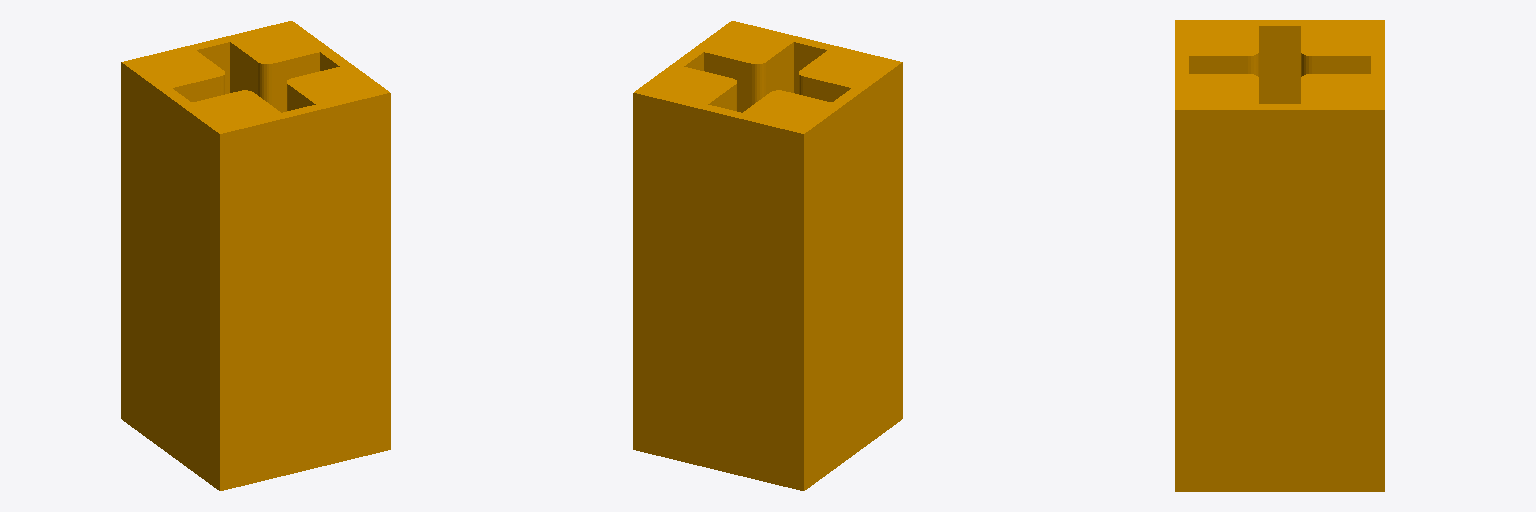
robot.urdf — industreal_cross_hole:
<?xml version="1.0"?>
<robot name="industreal_cross_hole">
    <link name="industreal_cross_hole">
        <visual>
            <geometry>
                <mesh filename="../mesh/industreal_pegs/industreal_cross_hole.obj"/>
            </geometry>
        </visual>
        <collision>
            <geometry>
                <mesh filename="../mesh/industreal_pegs/industreal_cross_hole.obj"/>
            </geometry>
            <sdf resolution="256"/>
        </collision>
    </link>
</robot>

--- Facts derived from the render (not from the file) ---
3 views of the same robot in one strip: view 1: azimuth 30°, elevation 25°; view 2: azimuth 150°, elevation 25°; view 3: azimuth 270°, elevation 25° (orthographic).
Robot: industreal_cross_hole — 1 links, 0 joints (none); root link industreal_cross_hole; default pose: all joints at 0.
Links seen in each view (by area): view 1: industreal_cross_hole; view 2: industreal_cross_hole; view 3: industreal_cross_hole.
Link boxes in pixels (bbox=[...]): industreal_cross_hole: bbox=[121, 21, 390, 490]; industreal_cross_hole: bbox=[633, 21, 902, 490]; industreal_cross_hole: bbox=[1175, 20, 1384, 491].
Size in the robot's own frame: 0.03 by 0.03 by 0.06 metres.
1 mesh visuals loaded from 1 distinct referenced files (1 OBJ).